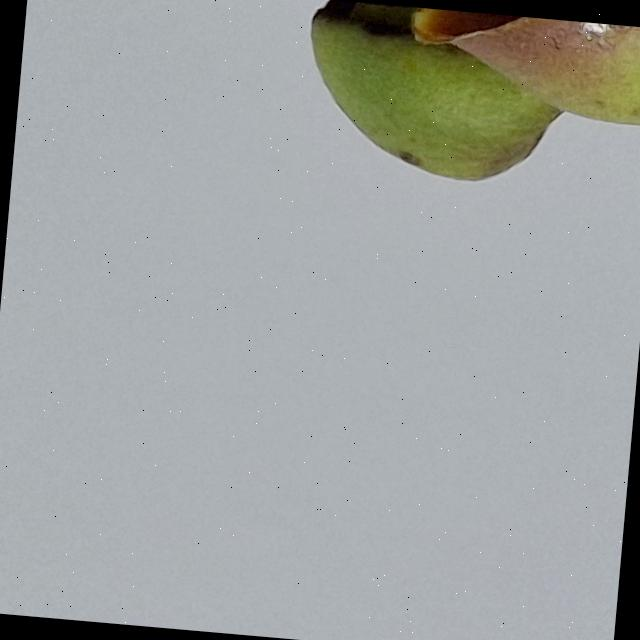mangosteen: (1, 0, 640, 343)
